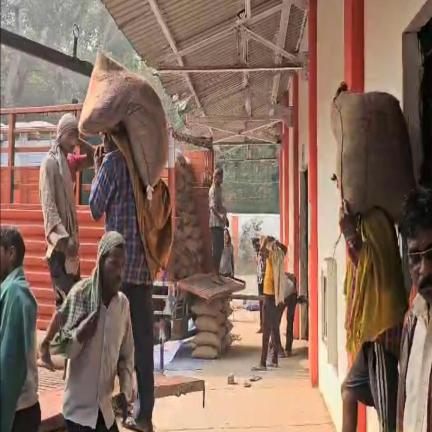Zone-Counting: (79, 52, 173, 432), (330, 82, 416, 432)
